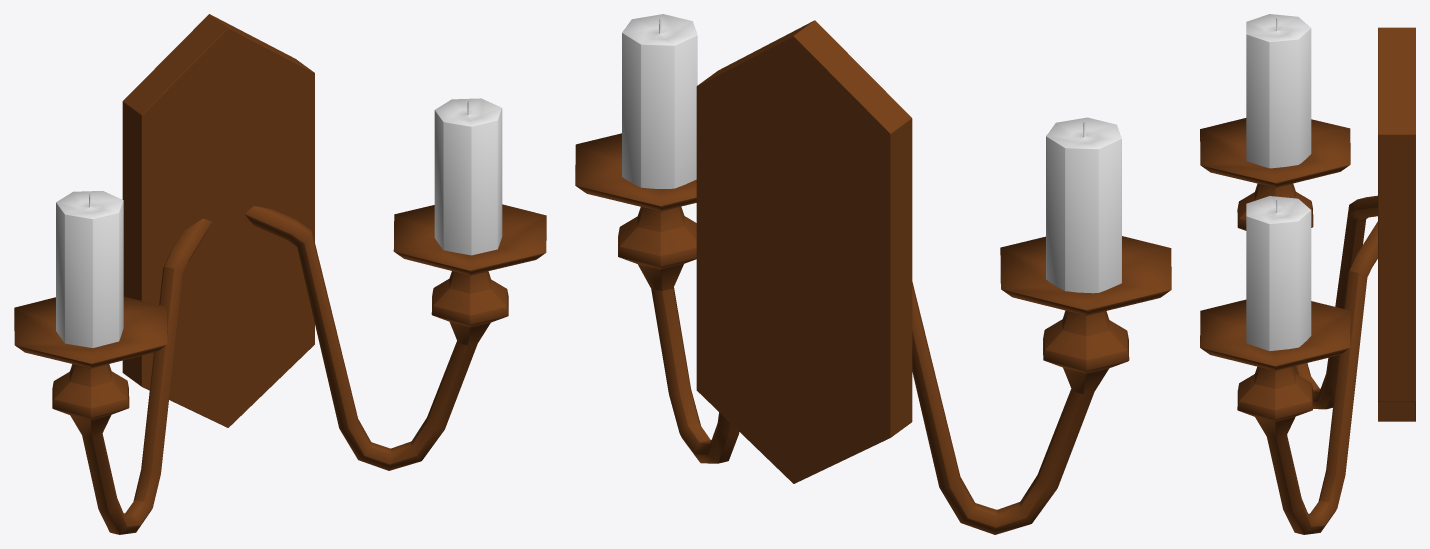
The model's file is candle sconce.fbx.
The picture shows the model from 3 angles, left to right: view 1: azimuth 30°, elevation 25°; view 2: azimuth 150°, elevation 25°; view 3: azimuth 270°, elevation 25°; orthographic projection. The views are drawn at different scales.
Visible parts, largest first — view 1: candle sconce; view 2: candle sconce; view 3: candle sconce.
Boxes of the visible parts, bbox=[...] form: candle sconce: bbox=[14, 14, 546, 534]; candle sconce: bbox=[575, 14, 1171, 534]; candle sconce: bbox=[1200, 14, 1415, 534].
Bounding box in the file's own units: 114 × 91.84 × 40.66.
